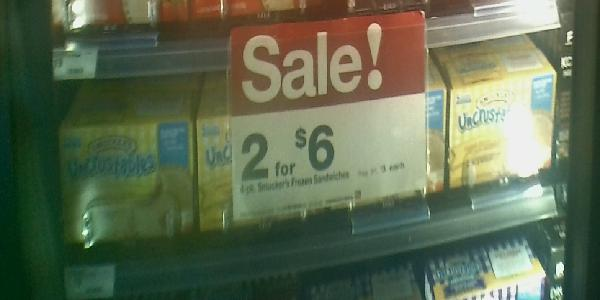icecream: (196, 93, 332, 236), (323, 68, 449, 214), (57, 122, 195, 248), (435, 49, 556, 177)
